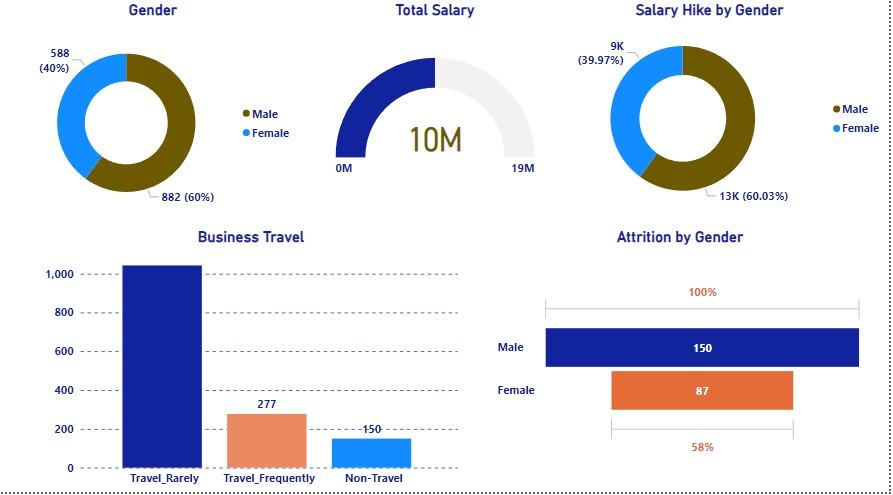

This screenshot's page, from the dashboard's own definition file:
{"tool":"powerbi","page":{"name":"02","canvas":[1280,720],"ordinal":1},"visuals":[{"type":"donutChart","title":" Gender","fields":{"Y":["CountNonNull(HR_DATA.Gender)"],"Category":["HR_DATA.Gender"]},"box":[10.1,13,420.5,326.9],"z":0},{"type":"donutChart","title":"Salary Hike by Gender","fields":{"Category":["HR_DATA.Gender"],"Y":["Sum(HR_DATA.PercentSalaryHike)"]},"box":[763.2,13,517,313.9],"z":1000},{"type":"gauge","fields":{"Y":["HR_DATA.Total Salary"]},"box":[478.1,13,296.6,313.9],"z":2000},{"type":"columnChart","title":" Business Travel","fields":{"Category":["HR_DATA.BusinessTravel"],"Y":["CountNonNull(HR_DATA.BusinessTravel)"]},"box":[59,339.8,604.8,380.2],"z":3000},{"type":"funnel","title":" Attrition by Gender","fields":{"Category":["HR_DATA.Gender"],"Y":["Sum(HR_DATA.Attrition)"]},"box":[711.4,339.8,535.7,380.2],"z":4000}]}

Visuals, with their boxes in screenshot pixels (x1, y1, x2, y2), scaled from the page's 1280x720 canvas onto the 893x495 screenshot:
" Gender" donutChart: bbox=(7, 9, 300, 234)
"Salary Hike by Gender" donutChart: bbox=(532, 9, 892, 225)
gauge - HR_DATA.Total Salary: bbox=(334, 9, 540, 225)
" Business Travel" columnChart: bbox=(41, 234, 463, 494)
" Attrition by Gender" funnel: bbox=(496, 234, 870, 494)
